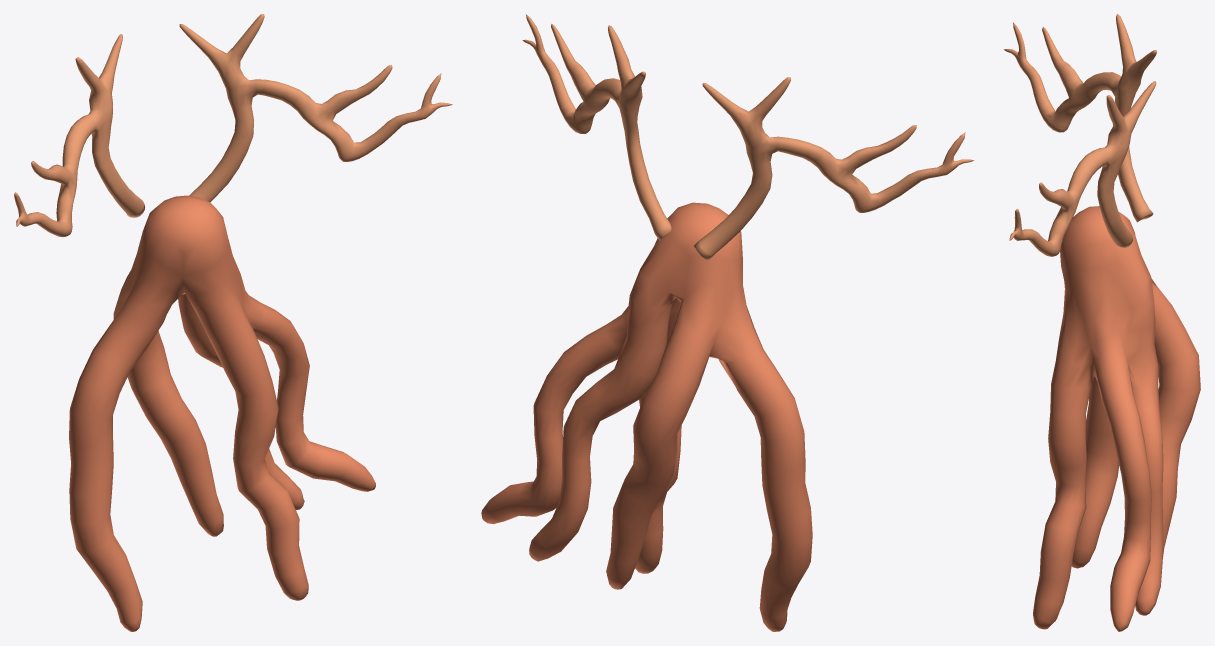
The model's file is steer2.fbx.
3 renders of one model, left to right at view 1: azimuth 30°, elevation 25°; view 2: azimuth 150°, elevation 25°; view 3: azimuth 270°, elevation 25°, orthographic. The views are drawn at different scales.
Visible parts, largest first — view 1: squid-antlers; view 2: squid-antlers; view 3: squid-antlers.
Part boxes in pixels (x1,y1,x2,y2): squid-antlers: (14,14,452,631); squid-antlers: (481,14,973,631); squid-antlers: (1003,14,1200,631).
Size of the model in its own units: 170 by 211 by 69.88.
